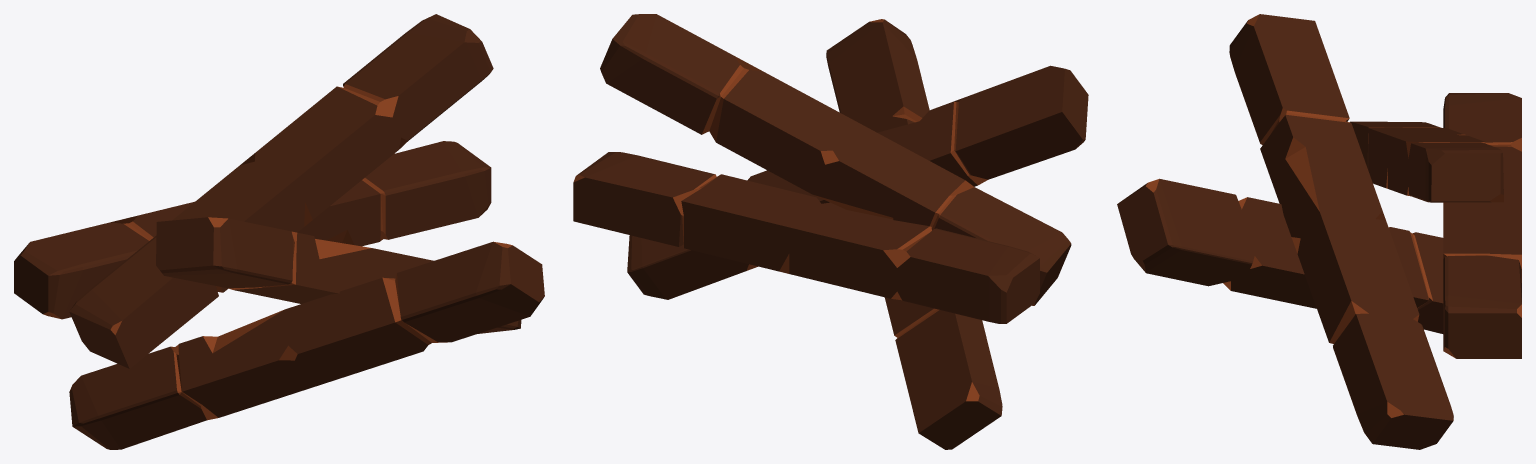
File: OBSTAC_01_HOUSE_002.fbx
The picture shows the model from 3 angles, left to right: view 1: azimuth 30°, elevation 25°; view 2: azimuth 150°, elevation 25°; view 3: azimuth 270°, elevation 25°; orthographic projection. The views are drawn at different scales.
Parts seen in each view (by area): view 1: Cube.006; view 2: Cube.006; view 3: Cube.006.
Boxes of the visible parts, x1,y1,x2,y2 form: Cube.006: (14,14,544,449); Cube.006: (573,14,1088,449); Cube.006: (1117,14,1521,449).
Size of the model in its own units: 211 by 158 by 163.
